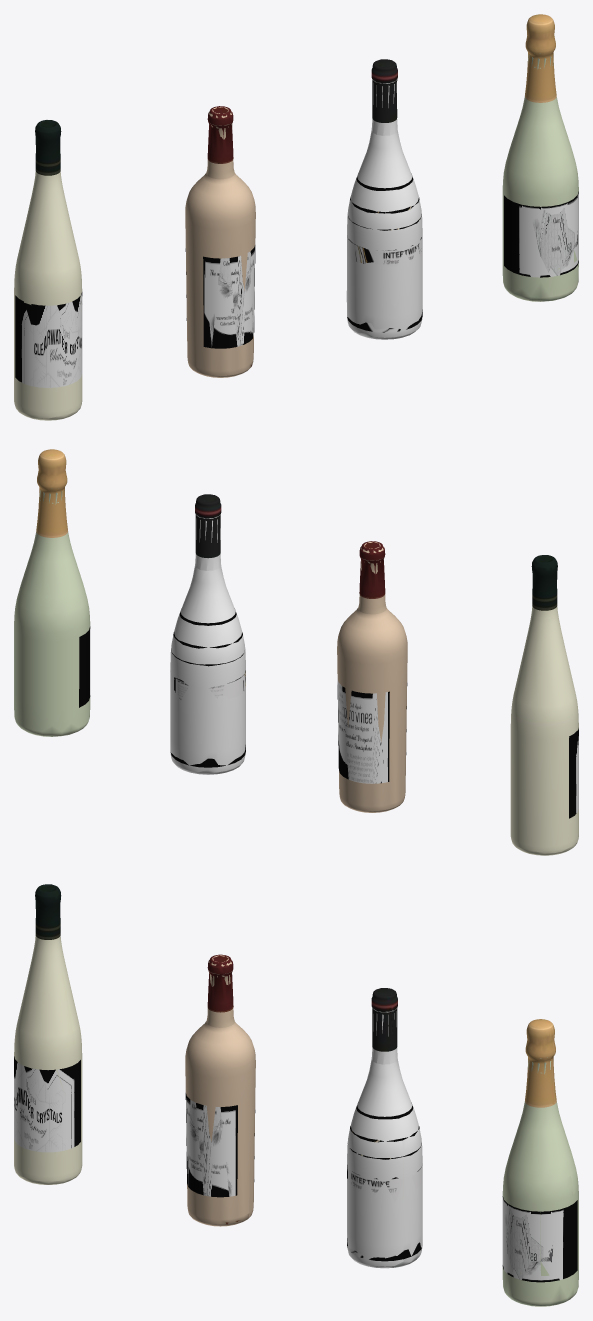
The model's file is wine-bottles-01.glb.
3 renders of one model, top to bottom at view 1: azimuth 30°, elevation 25°; view 2: azimuth 150°, elevation 25°; view 3: azimuth 330°, elevation 25°, orthographic.
Visible parts, largest first — view 1: wine_bottles_01; view 2: wine_bottles_01; view 3: wine_bottles_01.
Part boxes in pixels (x1=…): wine_bottles_01: x1=14, y1=14, x2=578, y2=420; wine_bottles_01: x1=14, y1=449, x2=578, y2=855; wine_bottles_01: x1=14, y1=884, x2=578, y2=1306.
Size of the model in its own units: 0.6763 by 0.3313 by 0.0805.
9 materials, 6 textured.
